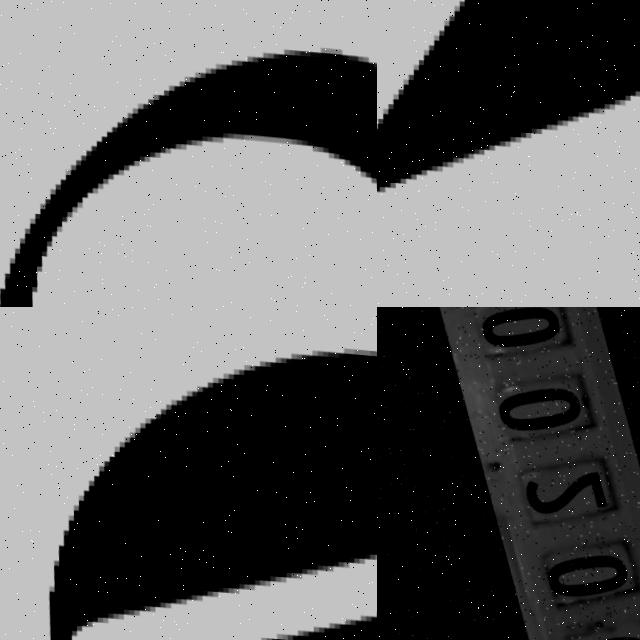0: (0, 311, 377, 640), (474, 361, 589, 443), (520, 529, 631, 610), (459, 307, 570, 361)
2: (501, 447, 609, 529)
6: (542, 612, 640, 640)
7: (377, 0, 640, 307)
O: (0, 47, 377, 307)
